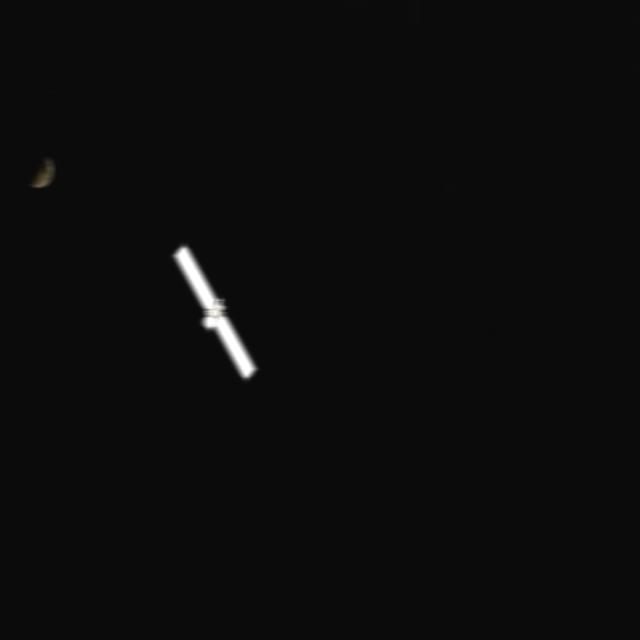satellite: (167, 241, 260, 383)
